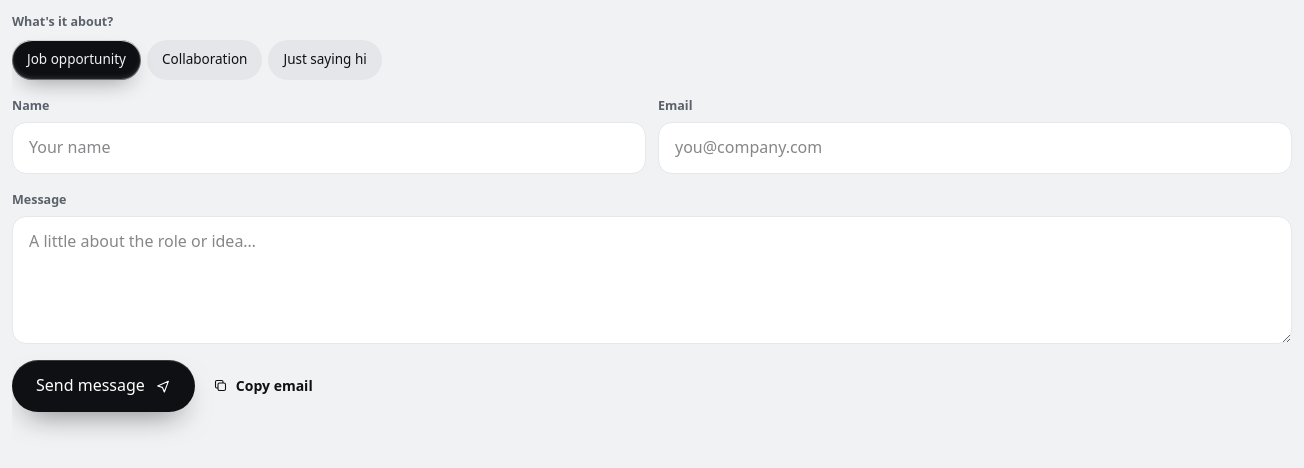
Test: contact delivery states › retains entered text on delivery error (network=false)
The width and height of the screenshot is (1304, 468).
Type "Test Person" into the field labelled "name".
click(329, 148); type("Test Person")  # box [12,122,646,174]
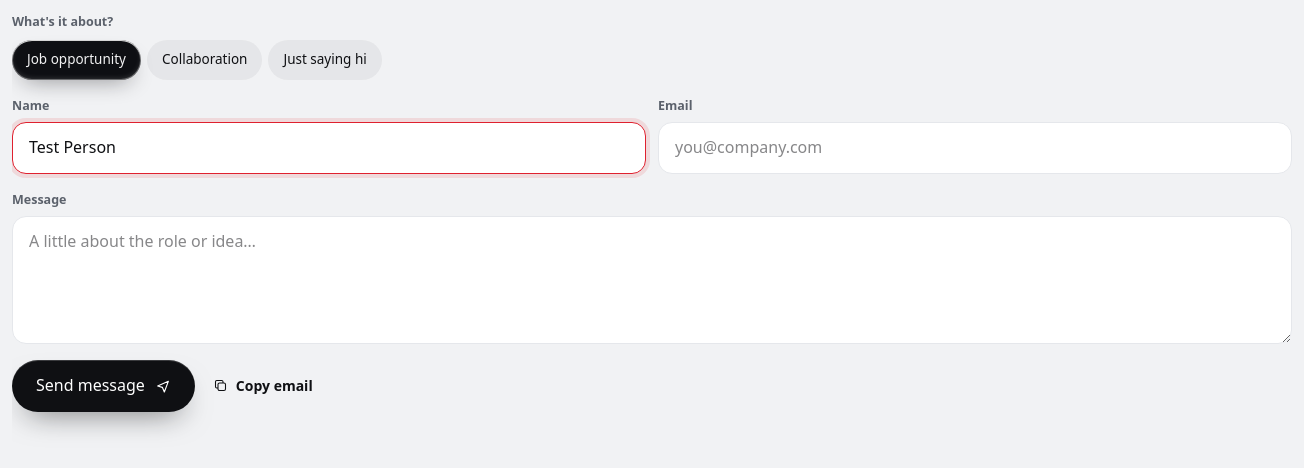
Type "test@example.com" into the field labelled "email".
click(975, 148); type("test@example.com")  # box [658,122,1292,174]
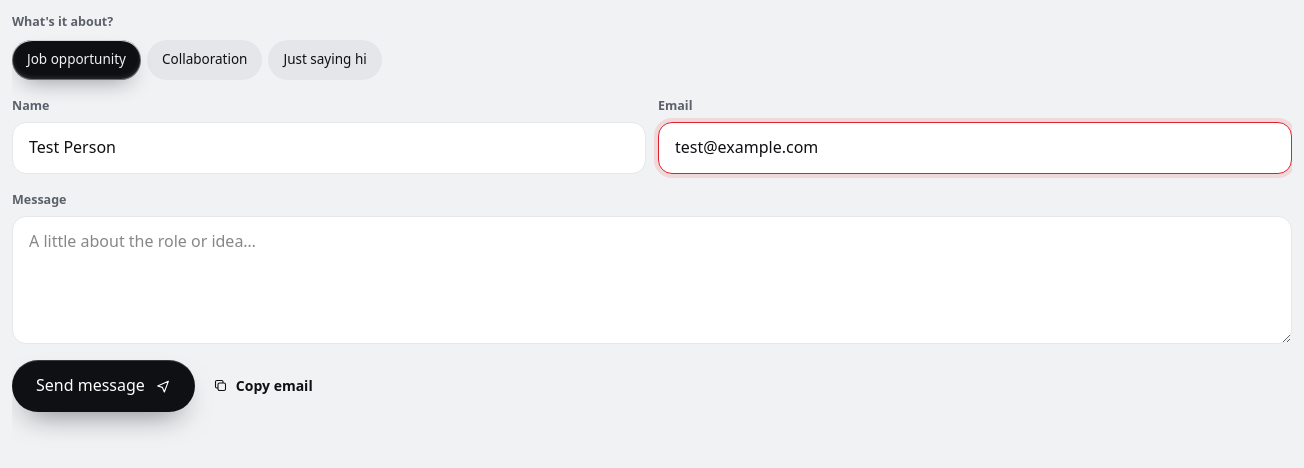
Type "This is a synthetic test message." into the text box labelled "message".
click(652, 280); type("This is a synthetic test message.")  # box [12,216,1292,344]
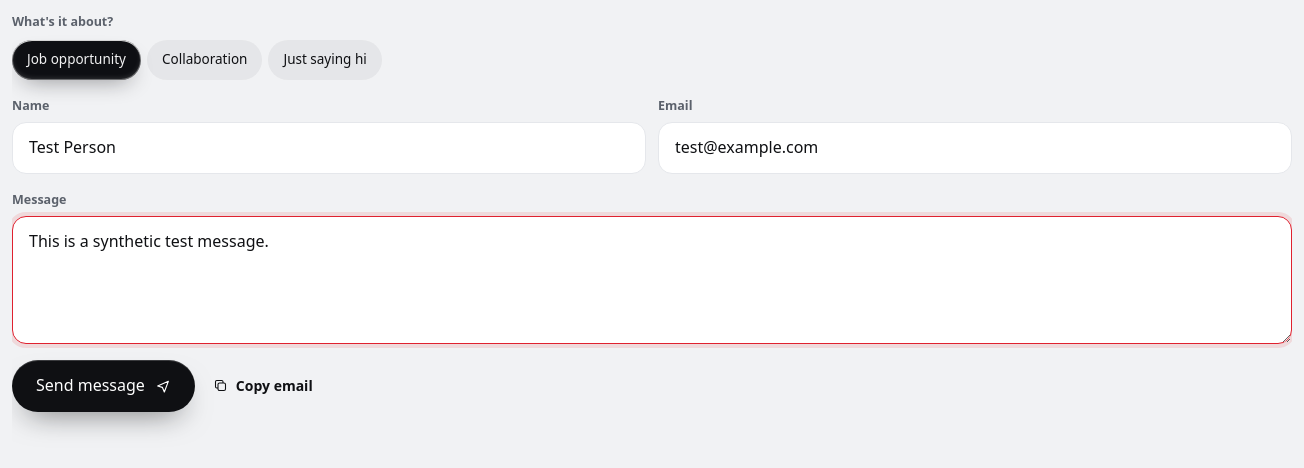
Click the button "Send message".
click(103, 386)  # box [12,360,195,412]
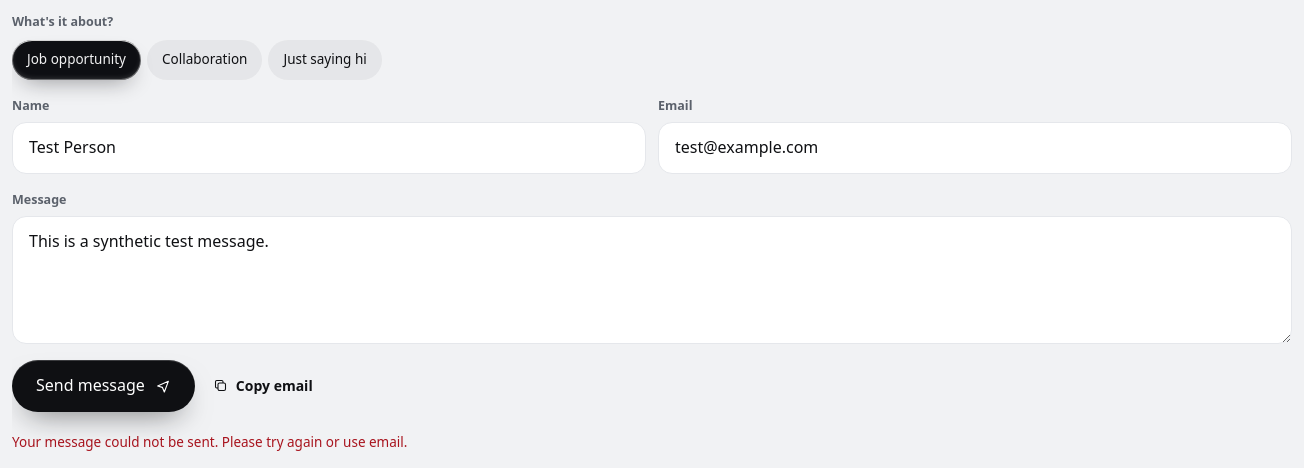
Check: the message shows "could not be sent", box [12,433,407,451]
